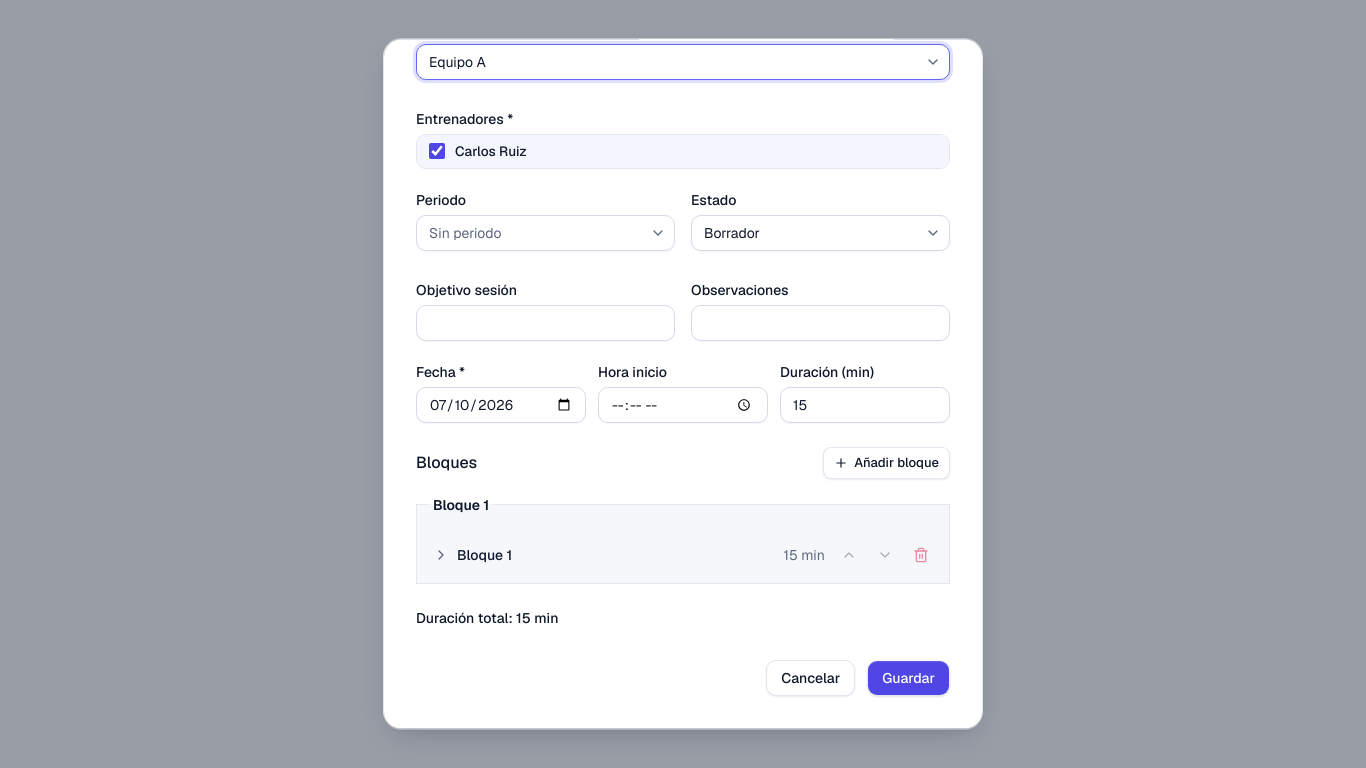
Test: SesionForm › modo edición: impide guardar un bloque sin título aunque tenga duración
(page scrolled)
expect the text "Duración total: 15 min" is shown: met, box left=416, top=609, right=558, bottom=627
Click the button "Guardar" at (909, 678), box left=867, top=660, right=950, bottom=696
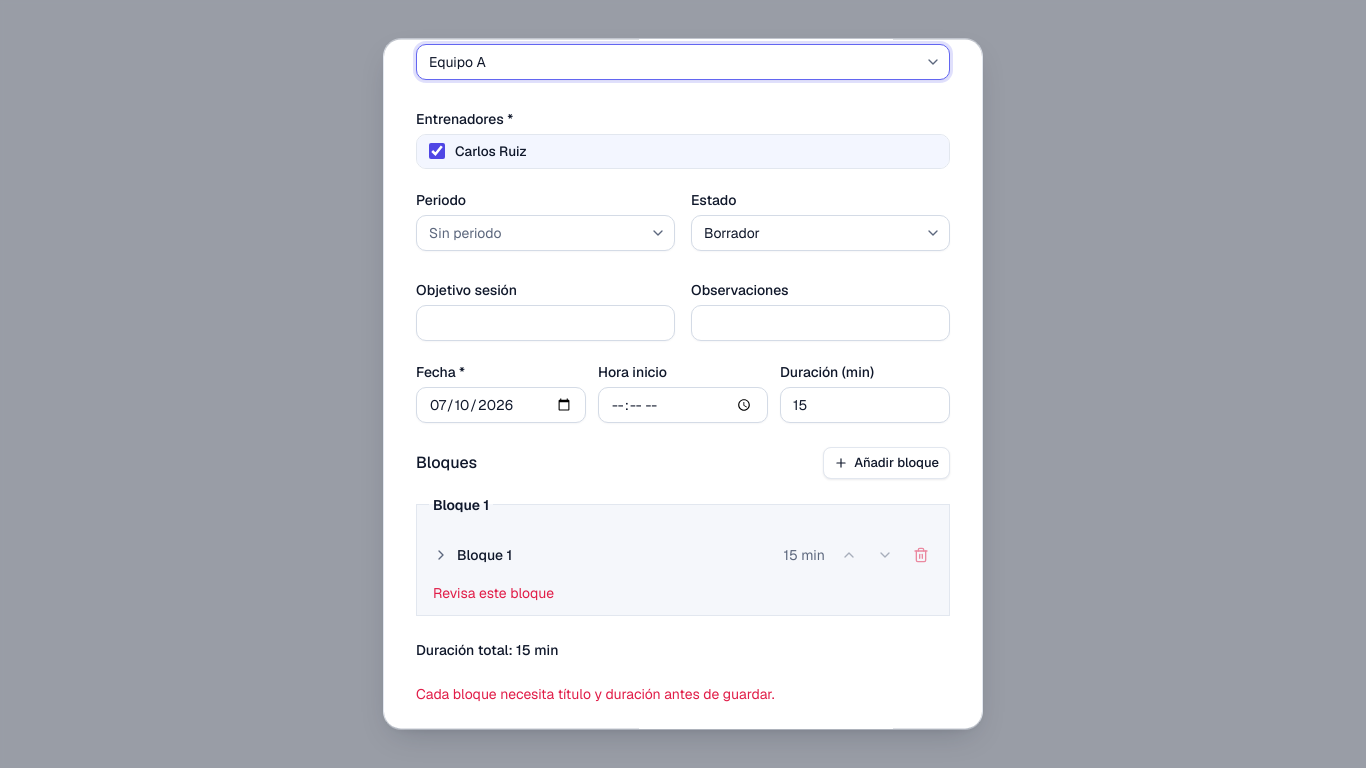
expect the text "Cada bloque necesita título y duración antes de guardar." is shown: met, box left=416, top=685, right=775, bottom=703
